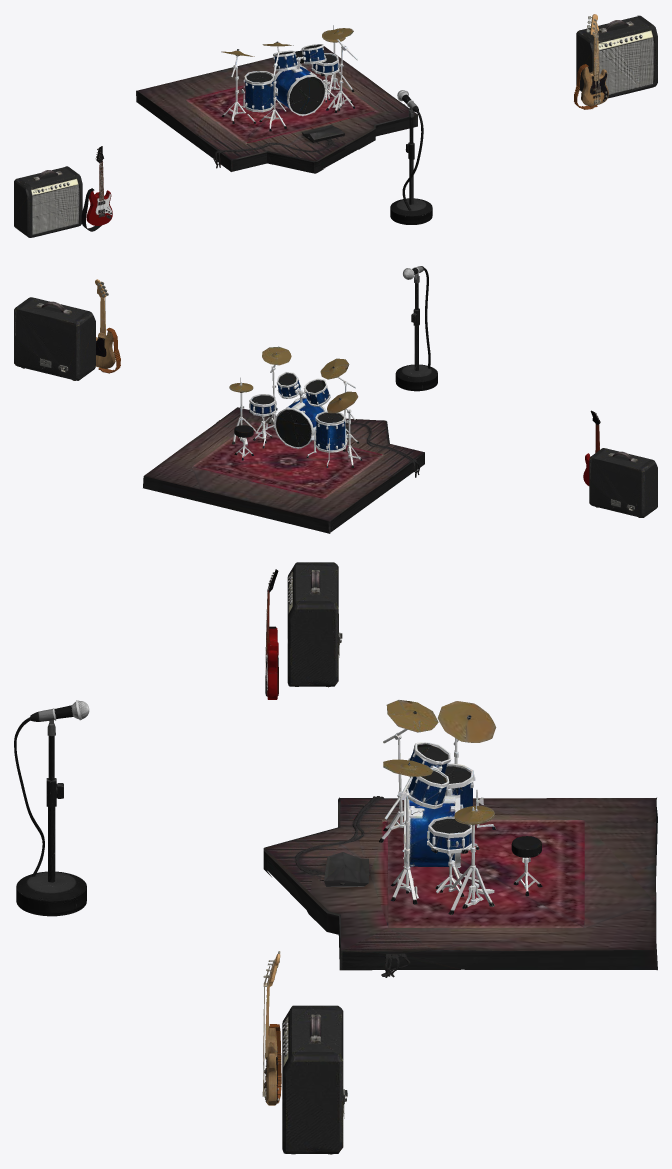
The model's file is stage-CjHLcGIH.glb.
The picture shows the model from 3 angles, top to bottom: view 1: azimuth 30°, elevation 25°; view 2: azimuth 150°, elevation 25°; view 3: azimuth 270°, elevation 25°; orthographic projection. The views are drawn at different scales.
Parts seen in each view (by area): view 1: prop-riser, prop-drums, prop-amp-bass, prop-amp-guitar, prop-mic, rest-bass, rest-guitar; view 2: prop-riser, prop-drums, prop-amp-bass, prop-amp-guitar, prop-mic, rest-bass; view 3: prop-riser, prop-drums, prop-amp-bass, prop-amp-guitar, prop-mic, rest-bass, rest-guitar.
Boxes of the visible parts, x1=… form: prop-riser: x1=136, y1=46, x2=417, y2=173; prop-drums: x1=221, y1=25, x2=357, y2=131; prop-amp-bass: x1=576, y1=15, x2=657, y2=98; prop-amp-guitar: x1=14, y1=166, x2=82, y2=237; prop-mic: x1=390, y1=90, x2=432, y2=224; rest-bass: x1=574, y1=14, x2=608, y2=109; rest-guitar: x1=81, y1=146, x2=112, y2=231; prop-riser: x1=143, y1=407, x2=424, y2=533; prop-drums: x1=229, y1=346, x2=362, y2=468; prop-amp-bass: x1=14, y1=297, x2=95, y2=380; prop-amp-guitar: x1=589, y1=448, x2=657, y2=517; prop-mic: x1=395, y1=266, x2=437, y2=391; rest-bass: x1=95, y1=279, x2=120, y2=373; prop-riser: x1=263, y1=796, x2=657, y2=977; prop-drums: x1=379, y1=700, x2=542, y2=914; prop-amp-bass: x1=282, y1=1005, x2=347, y2=1154; prop-amp-guitar: x1=287, y1=562, x2=342, y2=687; prop-mic: x1=14, y1=700, x2=89, y2=916; rest-bass: x1=262, y1=951, x2=281, y2=1105; rest-guitar: x1=265, y1=569, x2=278, y2=699.
Size of the model in its own units: 7.08 by 1.29 by 3.76.
Materials: 7 (7 with a texture image).
